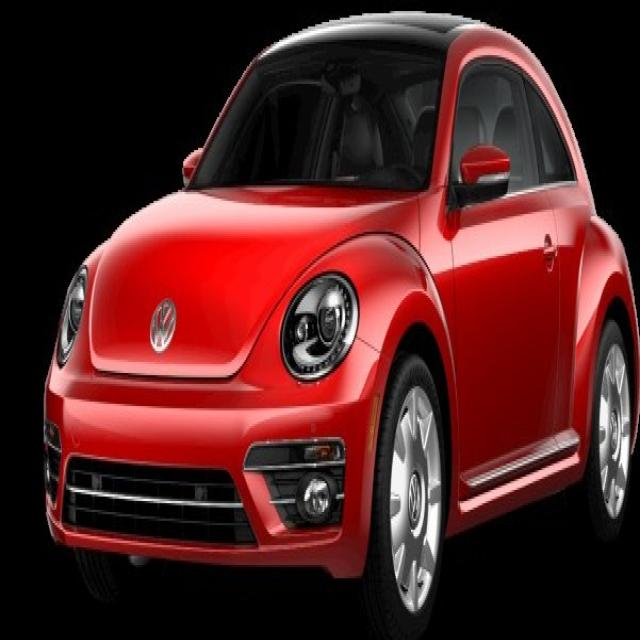red: (46, 29, 640, 573)
